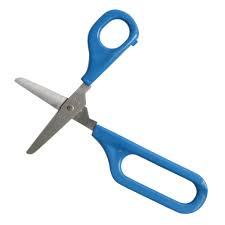tihiras: (12, 8, 209, 216)
